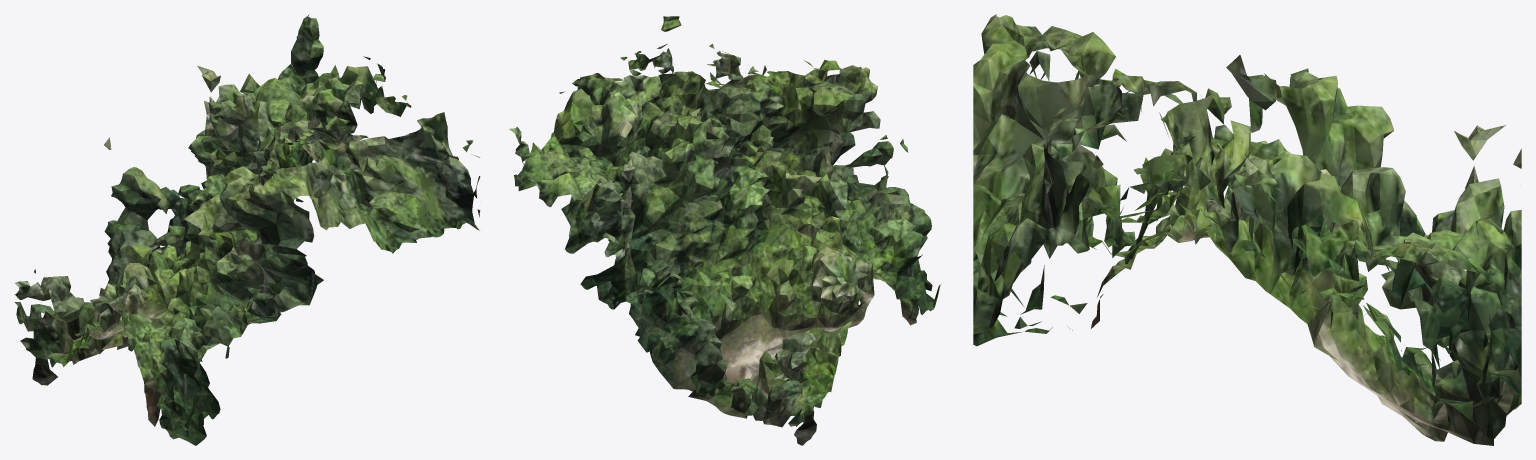
3 views of the same model, side by side, from view 1: azimuth 30°, elevation 25°; view 2: azimuth 150°, elevation 25°; view 3: azimuth 270°, elevation 25° (orthographic). The views are drawn at different scales.
Bounding box in the file's own units: 52.22 × 47.36 × 52.22.
8 materials, 8 textured.
